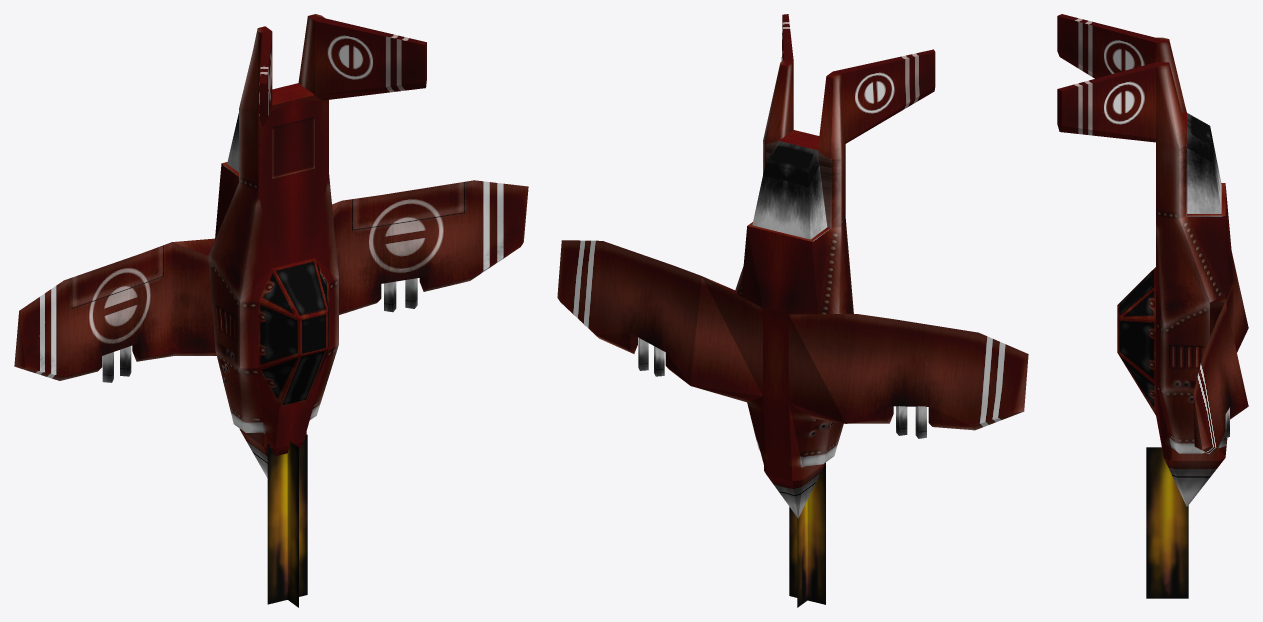
File: avatarp1_wtf.obj
3 renders of one model, left to right at view 1: azimuth 30°, elevation 25°; view 2: azimuth 150°, elevation 25°; view 3: azimuth 270°, elevation 25°, orthographic. The views are drawn at different scales.
Parts seen in each view (by area): view 1: group1, group2; view 2: group1, group2; view 3: group1, group2.
Part boxes in pixels (x1,y1,x2,y2): group1: (14,14,528,477); group2: (267,434,307,607); group1: (557,14,1028,518); group2: (789,462,825,607); group1: (1057,14,1248,506); group2: (1146,447,1188,598).
Bounding box in the file's own units: 609 × 660 × 210.
